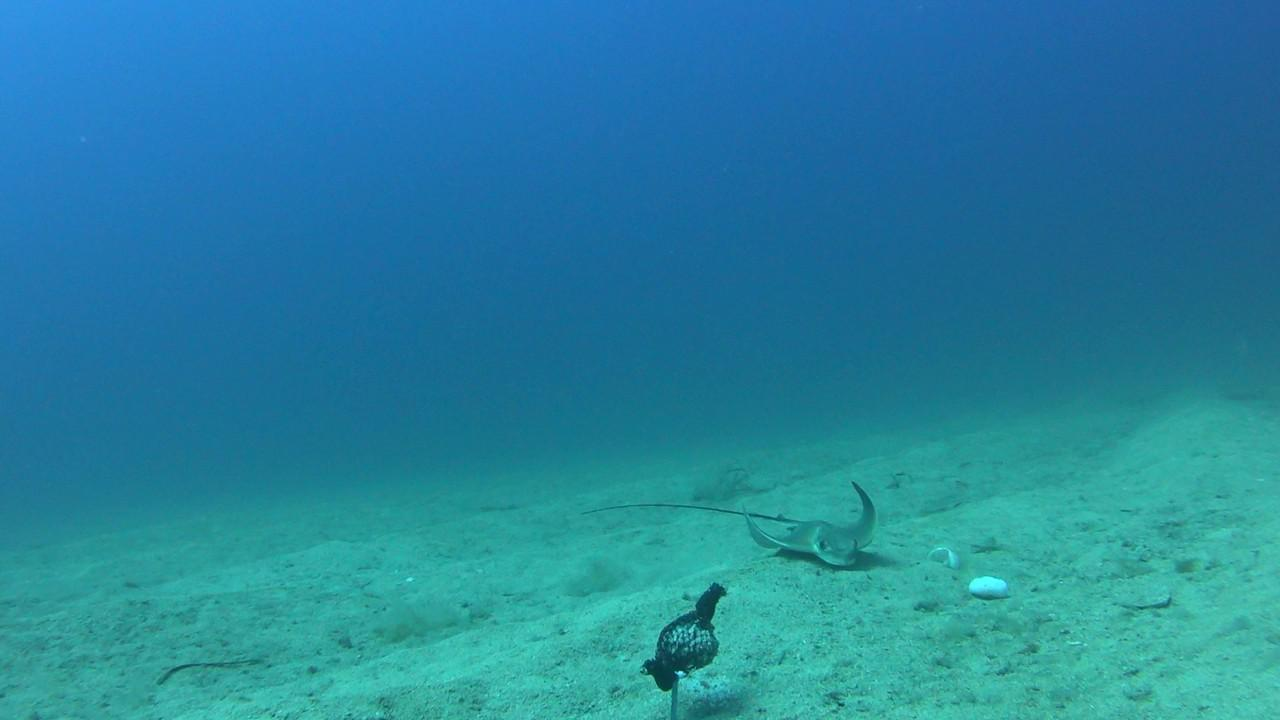myliobatis: (578, 476, 880, 574)
